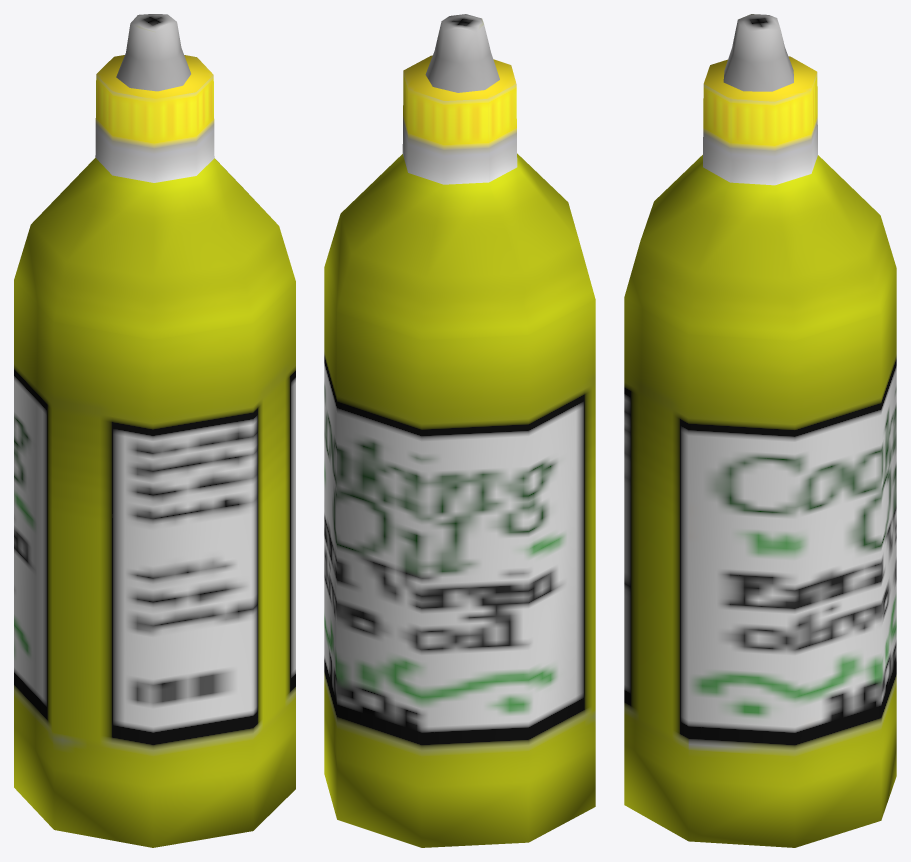
File: OilBottle.fbx
The picture shows the model from 3 angles, left to right: view 1: azimuth 30°, elevation 25°; view 2: azimuth 150°, elevation 25°; view 3: azimuth 270°, elevation 25°; orthographic projection.
Visible parts, largest first — view 1: CookingOil.001; view 2: CookingOil.001; view 3: CookingOil.001.
Part boxes in pixels (x1=…): CookingOil.001: x1=14, y1=14, x2=295, y2=847; CookingOil.001: x1=324, y1=14, x2=595, y2=847; CookingOil.001: x1=624, y1=14, x2=896, y2=847.
Size of the model in its own units: 12.06 by 38.42 by 12.06.
